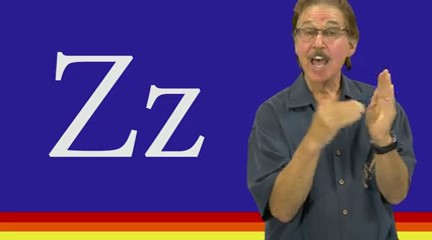Z: (307, 66, 397, 147)
